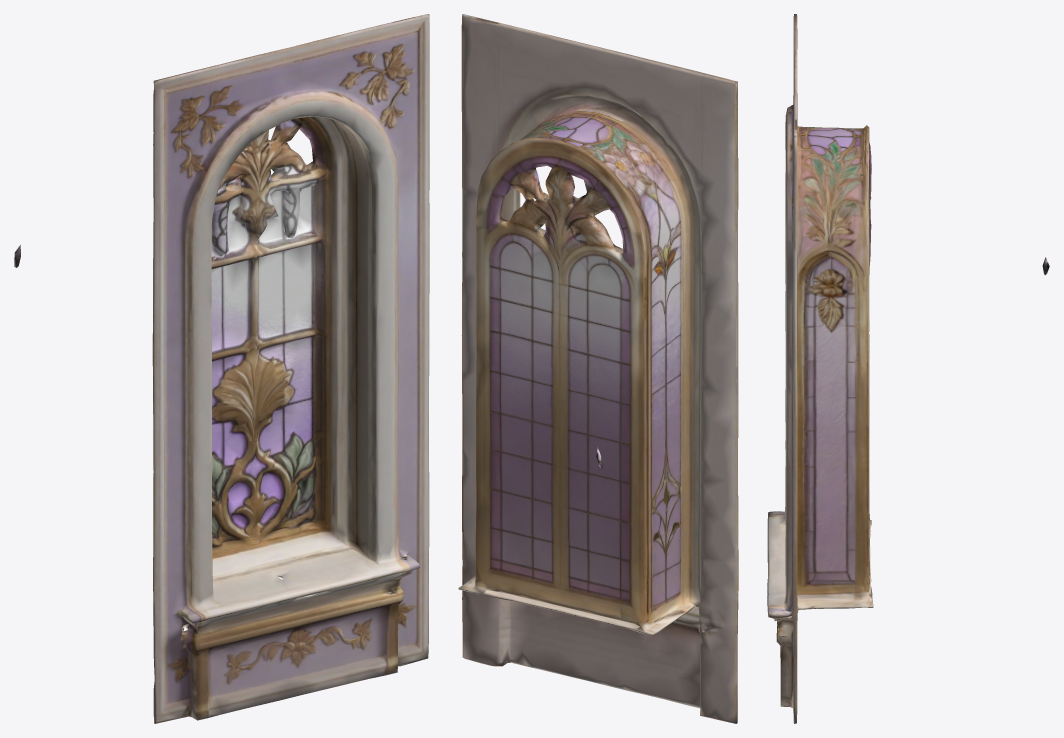
The model's file is Meshy_AI_Object_decorative_wa_1016070038_texture.fbx.
3 renders of one model, left to right at view 1: azimuth 30°, elevation 25°; view 2: azimuth 150°, elevation 25°; view 3: azimuth 270°, elevation 25°, orthographic. The views are drawn at different scales.
Parts seen in each view (by area): view 1: Mesh_0; view 2: Mesh_0; view 3: Mesh_0.
Boxes of the visible parts, left/top/right/bottom form: Mesh_0: left=14, top=14, right=429, bottom=723; Mesh_0: left=458, top=14, right=738, bottom=723; Mesh_0: left=767, top=14, right=1049, bottom=723.
Bounding box in the file's own units: 90.43 × 201 × 87.15.
Materials: 1 (1 with a texture image).
